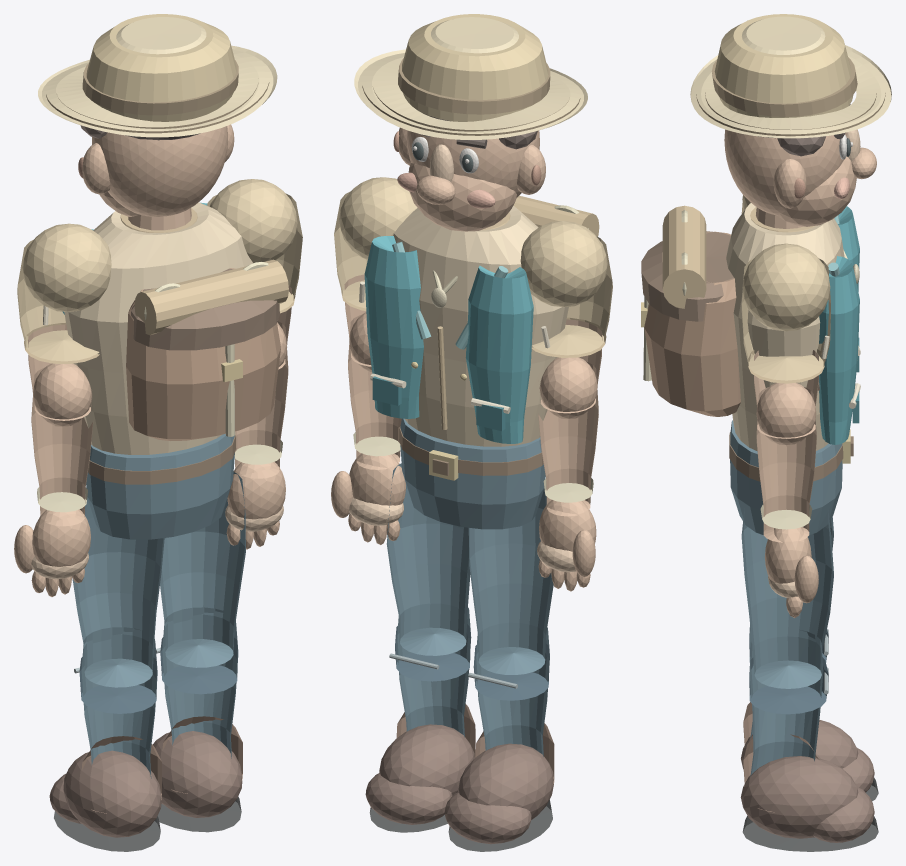
File: A05_idle_weighted_pose_diagnostic.glb
3 views of the same model, side by side, from view 1: azimuth 30°, elevation 25°; view 2: azimuth 150°, elevation 25°; view 3: azimuth 270°, elevation 25° (orthographic). The views are drawn at different scales.
Parts seen in each view (by area): view 1: world; view 2: world; view 3: world.
Boxes of the visible parts, box(x1,y1,x2,y2) form: world: box(14, 14, 302, 851); world: box(331, 14, 612, 851); world: box(641, 14, 891, 851).
Size of the model in its own units: 0.676 by 1.87 by 0.5421.
